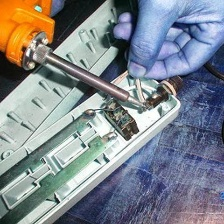three_eye_plug: (0, 58, 191, 224)
